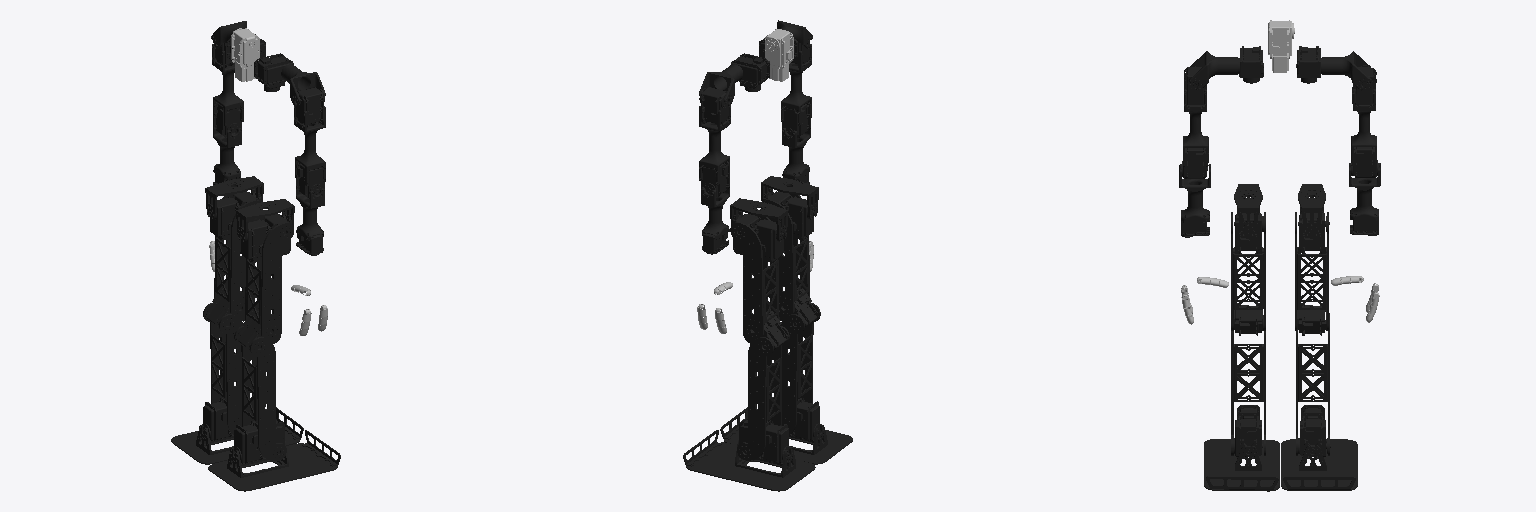
--- What the picture shows (computed from the rendered views, not written in the file) ---
3 views of the same robot in one strip: view 1: azimuth 30°, elevation 25°; view 2: azimuth 150°, elevation 25°; view 3: azimuth 270°, elevation 25° (orthographic).
Model complete with 45 links and 44 joints (9 revolute, 35 fixed), rooted at torso:11, posed every joint at zero.
Visible links, largest first — view 1: right_thigh:11, right_shank:11, right_foot:11, left_shank:11, left_thigh:11, right_upper_arm:11, left_upper_arm:11, left_foot:11, right_lower_arm:11, neck:11, right_hip_low:11, right_ankle:11 (+7 smaller); view 2: left_thigh:11, left_shank:11, left_foot:11, right_shank:11, right_thigh:11, left_upper_arm:11, right_upper_arm:11, right_foot:11, left_lower_arm:11, neck:11, left_hip_low:11, left_ankle:11 (+7 smaller); view 3: left_foot:11, right_foot:11, right_thigh:11, left_thigh:11, left_upper_arm:11, right_upper_arm:11, right_shank:11, left_shank:11, right_lower_arm:11, left_lower_arm:11, neck:11, left_ankle:11 (+9 smaller).
Boxes of the visible links, x1,y1,x2,y2 form: right_thigh:11: [236, 217, 293, 349]; right_shank:11: [234, 326, 286, 460]; right_foot:11: [208, 430, 340, 491]; left_shank:11: [203, 303, 243, 434]; left_thigh:11: [205, 194, 260, 326]; right_upper_arm:11: [294, 87, 325, 198]; left_upper_arm:11: [212, 40, 243, 137]; left_foot:11: [171, 407, 303, 464]; right_lower_arm:11: [296, 187, 324, 255]; neck:11: [231, 28, 259, 81]; right_hip_low:11: [240, 214, 290, 261]; right_ankle:11: [234, 419, 284, 463]; left_thigh:11: [730, 216, 787, 349]; left_shank:11: [737, 326, 789, 460]; left_foot:11: [683, 430, 815, 491]; right_shank:11: [780, 303, 820, 434]; right_thigh:11: [764, 191, 818, 326]; left_upper_arm:11: [699, 87, 730, 196]; right_upper_arm:11: [781, 41, 811, 137]; right_foot:11: [720, 407, 852, 464]; left_lower_arm:11: [701, 187, 729, 254]; neck:11: [765, 29, 793, 81]; left_hip_low:11: [733, 214, 783, 261]; left_ankle:11: [739, 419, 789, 462]; left_foot:11: [1281, 439, 1357, 490]; right_foot:11: [1204, 439, 1279, 491]; right_thigh:11: [1231, 212, 1265, 335]; left_thigh:11: [1295, 212, 1328, 335]; left_upper_arm:11: [1351, 65, 1378, 177]; right_upper_arm:11: [1181, 67, 1208, 178]; right_shank:11: [1231, 331, 1265, 455]; left_shank:11: [1296, 313, 1329, 455]; right_lower_arm:11: [1179, 164, 1210, 237]; left_lower_arm:11: [1349, 163, 1380, 235]; neck:11: [1268, 20, 1294, 72]; left_ankle:11: [1298, 405, 1330, 456].
Bounding box of the posed robot: 0.2082 × 0.3479 × 0.836 m (x, y, z).
39 mesh visuals loaded from 29 distinct referenced files (23 binary STL); not drawn: 6 (reference not matched to a file when rendering).

The robot description file, URDF, robot "complete":
<?xml version="1.0" ?>
<robot name="complete">
	<link name="torso:11">
		<visual>
			<geometry>
				<mesh filename="meshes/torso_iam_fb80b350.STL" scale="0.001 0.001 0.001"/>
			</geometry>
			<origin rpy="0 0 0" xyz="-0.026368 -0.075212 0.525308"/>
			<material name="torso:11_color">
				<color rgba="0.270588 0.270588 0.270588 1"/>
			</material>
		</visual>
		<collision>
			<geometry>
				<mesh filename="meshes/torso_iam_fb80b350.STL" scale="0.001 0.001 0.001"/>
			</geometry>
			<origin rpy="0 0 0" xyz="-0.026368 -0.075212 0.525308"/>
		</collision>
		<inertial>
			<mass value="0.607828"/>
			<inertia ixx="0.006338" ixy="0.000004" ixz="0.000248" iyy="0.005208" iyz="0.000001" izz="0.002162"/>
			<origin rpy="0 0 0" xyz="0.01632 -0.000121 0.649656"/>
		</inertial>
	</link>
	<link name="right_shoulder:11">
		<visual>
			<geometry>
				<mesh filename="meshes/right_shoulder_up_iam_34db21c8.STL" scale="0.001 0.001 0.001"/>
			</geometry>
			<origin rpy="0 0 0" xyz="-0.062271 0.032843 -0.74045"/>
			<material name="right_shoulder:11_color">
				<color rgba="0.176471 0.176471 0.176471 1"/>
			</material>
		</visual>
		<collision>
			<geometry>
				<mesh filename="meshes/right_shoulder_up_iam_34db21c8.STL" scale="0.001 0.001 0.001"/>
			</geometry>
			<origin rpy="0 0 0" xyz="-0.062271 0.032843 -0.74045"/>
		</collision>
		<inertial>
			<mass value="0.084038"/>
			<inertia ixx="0.000026" ixy="-0.000001" ixz="-0.000002" iyy="0.000034" iyz="-0" izz="0.000033"/>
			<origin rpy="0 0 0" xyz="0.005637 0.000876 0.033153"/>
		</inertial>
	</link>
	<joint name="r_shoulder_z_rjoint" type="revolute">
		<parent link="torso:11"/>
		<child link="right_shoulder:11"/>
		<origin rpy="0 0 -0.20444" xyz="0.026783 -0.049912 0.748809"/>
		<axis xyz="0 0 1"/>
		<limit effort="30" lower="-1.745" upper="2.182" velocity="1"/>
	</joint>
	<link name="right_collarbone:11">
		<visual>
			<geometry>
				<mesh filename="meshes/right_upper_arm_iam_e3e9c979.STL" scale="0.001 0.001 0.001"/>
			</geometry>
			<origin rpy="0 0 0" xyz="-0.0285 -0.054827 -0.000102"/>
			<material name="right_collarbone:11_color">
				<color rgba="0.176471 0.176471 0.176471 1"/>
			</material>
		</visual>
		<collision>
			<geometry>
				<mesh filename="meshes/right_upper_arm_iam_e3e9c979.STL" scale="0.001 0.001 0.001"/>
			</geometry>
			<origin rpy="0 0 0" xyz="-0.0285 -0.054827 -0.000102"/>
		</collision>
		<inertial>
			<mass value="0.024811"/>
			<inertia ixx="0.000014" ixy="-0" ixz="0" iyy="0.000011" iyz="-0.000001" izz="0.000019"/>
			<origin rpy="0 0 0" xyz="-0 -0.041345 -0.002364"/>
		</inertial>
	</link>
	<joint name="r_shoulder_y_rjoint" type="revolute">
		<parent link="right_shoulder:11"/>
		<child link="right_collarbone:11"/>
		<origin rpy="0 0 0.20444" xyz="0.026211 -0.018056 0.037"/>
		<axis xyz="0 -1 0"/>
		<limit effort="30" lower="-3.142" upper="3.124" velocity="1"/>
	</joint>
	<link name="right_upper_arm:11">
		<visual>
			<geometry>
				<mesh filename="meshes/right_lower_arm1_iam_65a34910.STL" scale="0.001 0.001 0.001"/>
			</geometry>
			<origin rpy="0 0 0" xyz="-0.044001 -0.021 -0.139458"/>
			<material name="right_upper_arm:11_color">
				<color rgba="0.176471 0.176471 0.176471 1"/>
			</material>
		</visual>
		<collision>
			<geometry>
				<mesh filename="meshes/right_lower_arm1_iam_65a34910.STL" scale="0.001 0.001 0.001"/>
			</geometry>
			<origin rpy="0 0 0" xyz="-0.044001 -0.021 -0.139458"/>
		</collision>
		<inertial>
			<mass value="0.189729"/>
			<inertia ixx="0.000851" ixy="0" ixz="0" iyy="0.000851" iyz="-0.000005" izz="0.000048"/>
			<origin rpy="0 0 0" xyz="-0.02306 -0.000321 -0.0866"/>
		</inertial>
	</link>
	<joint name="r_arm_x_rjoint" type="revolute">
		<parent link="right_collarbone:11"/>
		<child link="right_upper_arm:11"/>
		<origin rpy="0 0 0" xyz="0.0245 -0.073664 -0.022853"/>
		<axis xyz="1 0 0"/>
		<limit effort="30" lower="-3.002" upper="1.8675" velocity="1"/>
	</joint>
	<link name="right_lower_arm:11">
		<visual>
			<geometry>
				<mesh filename="meshes/right_wrist_iam_771ea33e.STL" scale="0.001 0.001 0.001"/>
			</geometry>
			<origin rpy="0 0 0" xyz="-0.0168 -0.0018 -0.123873"/>
			<material name="right_lower_arm:11_color">
				<color rgba="0.176471 0.176471 0.176471 1"/>
			</material>
		</visual>
		<collision>
			<geometry>
				<mesh filename="meshes/right_wrist_iam_771ea33e.STL" scale="0.001 0.001 0.001"/>
			</geometry>
			<origin rpy="0 0 0" xyz="-0.0168 -0.0018 -0.123873"/>
		</collision>
		<inertial>
			<mass value="0.076793"/>
			<inertia ixx="0.000104" ixy="-0" ixz="-0" iyy="0.000095" iyz="-0.000002" izz="0.000021"/>
			<origin rpy="0 0 0" xyz="0 0.022485 -0.081055"/>
		</inertial>
	</link>
	<joint name="r_elbow_y_rjoint" type="revolute">
		<parent link="right_upper_arm:11"/>
		<child link="right_lower_arm:11"/>
		<origin rpy="0 0 0" xyz="-0.023001 -0.024001 -0.1732"/>
		<axis xyz="0 1 0"/>
		<limit effort="30" lower="-1.745" upper="1.745" velocity="1"/>
	</joint>
	<link name="right_wrist:11">
		<visual>
			<geometry>
				<mesh filename="meshes/right_wrist_iam_81504746.STL" scale="0.001 0.001 0.001"/>
			</geometry>
			<origin rpy="0 0 0" xyz="-0.000319 0.006617 -0.070181"/>
			<material name="right_wrist:11_color">
				<color rgba="0.74902 0.74902 0.74902 1"/>
			</material>
		</visual>
		<collision>
			<geometry>
				<mesh filename="meshes/right_wrist_iam_81504746.STL" scale="0.001 0.001 0.001"/>
			</geometry>
			<origin rpy="0 0 0" xyz="-0.000319 0.006617 -0.070181"/>
		</collision>
		<inertial>
			<mass value="0.028397"/>
			<inertia ixx="0.000043" ixy="-0" ixz="0.000004" iyy="0.000058" iyz="-0.000007" izz="0.000029"/>
			<origin rpy="0 0 0" xyz="0.000031 -0.011056 -0.0675"/>
		</inertial>
	</link>
	<joint name="r_wrist_z_rjoint" type="revolute">
		<parent link="right_lower_arm:11"/>
		<child link="right_wrist:11"/>
		<origin rpy="0 0 0.028946" xyz="0 0.0102 -0.12605"/>
		<axis xyz="0 0 1"/>
		<limit effort="30" lower="-1.571" upper="1.571" velocity="1"/>
	</joint>
	<link name="gripper"> <!--gripper-->
		<visual>
			<geometry>
				<mesh filename="meshes/right_palm_iam_583b22df.STL" scale="0.001 0.001 0.001"/>
			</geometry>
			<origin rpy="0 0 0" xyz="-0.022933 0.001906 -0.017233"/>
			<material name="gripper_color">
				<color rgba="0.74902 0.74902 0.74902 1"/>
			</material>
		</visual>
		<collision>
			<geometry>
				<mesh filename="meshes/right_palm_iam_583b22df.STL" scale="0.001 0.001 0.001"/>
			</geometry>
			<origin rpy="0 0 0" xyz="-0.022933 0.001906 -0.017233"/>
		</collision>
		<inertial>
			<mass value="0.005332"/>
			<inertia ixx="0.000015" ixy="0.000001" ixz="-0.000004" iyy="0.000017" iyz="0.000004" izz="0.000006"/>
			<origin rpy="0 0 0" xyz="-0.029511 0.002253 -0.023968"/>
		</inertial>
	</link>
	<joint name="r_wrist_x_gjoint" type="revolute">
		<parent link="right_wrist:11"/>
		<child link="gripper"/>
		<origin rpy="-0.433097 0 0" xyz="0.023416 0.006052 -0.070337"/>
		<axis xyz="1 0 0"/>
		<limit effort="30" lower="0" upper="0.872665" velocity="1"/>
	</joint>
	<link name="finger_segment:23">
		<visual>
			<geometry>
				<mesh filename="meshes/finger_segment_ipt_50d2a7f4.STL" scale="0.001 0.001 0.001"/>
			</geometry>
			<origin rpy="0 0 0" xyz="-0.006681 -0.015507 -0.007416"/>
			<material name="finger_segment:23_color">
				<color rgba="0.74902 0.74902 0.74902 1"/>
			</material>
		</visual>
		<collision>
			<geometry>
				<mesh filename="meshes/finger_segment_ipt_50d2a7f4.STL" scale="0.001 0.001 0.001"/>
			</geometry>
			<origin rpy="0 0 0" xyz="-0.006681 -0.015507 -0.007416"/>
		</collision>
		<inertial>
			<mass value="0.000009"/>
			<inertia ixx="0" ixy="0" ixz="-0" iyy="0" iyz="0" izz="0"/>
			<origin rpy="0 0 0" xyz="0.004909 0.000556 -0.005751"/>
		</inertial>
	</link>
	<joint name="r_indexfingers_x_rjoint" type="revolute">
		<parent link="gripper"/>
		<child link="finger_segment:23"/>
		<origin rpy="-0.578103 0.062904 -3.141593" xyz="-0.001139 0.006226 -0.040004"/>
		<axis xyz="0.998022 0.00962907 0.0621208"/>
		<limit effort="30" lower="-1.309" upper="0" velocity="1"/>
	</joint>
	<link name="finger_segment:13">
		<visual>
			<geometry>
				<mesh filename="meshes/finger_segment_ipt_50d2a7f4.STL" scale="0.001 0.001 0.001"/>
			</geometry>
			<origin rpy="0 0 0" xyz="-0.006181 -0.015507 -0.007417"/>
			<material name="finger_segment:13_color">
				<color rgba="0.74902 0.74902 0.74902 1"/>
			</material>
		</visual>
		<collision>
			<geometry>
				<mesh filename="meshes/finger_segment_ipt_50d2a7f4.STL" scale="0.001 0.001 0.001"/>
			</geometry>
			<origin rpy="0 0 0" xyz="-0.006181 -0.015507 -0.007417"/>
		</collision>
		<inertial>
			<mass value="0.000009"/>
			<inertia ixx="0" ixy="0" ixz="-0" iyy="0" iyz="0" izz="0"/>
			<origin rpy="0 0 0" xyz="0.005409 0.000556 -0.005751"/>
		</inertial>
	</link>
	<joint name="r_indexfinger_1st_x" type="fixed">
		<parent link="finger_segment:23"/>
		<child link="finger_segment:13"/>
		<origin rpy="-0.095246 0 0" xyz="-0.0005 0 -0.015999"/>
		<axis xyz="0.998022 0.00962907 0.0621208"/>
		<limit effort="30" lower="-1.309" upper="0" velocity="1"/>
	</joint>
	<link name="fingertip:13">
		<visual>
			<geometry>
				<mesh filename="meshes/fingertip_ipt_8417b8a9.STL" scale="0.001 0.001 0.001"/>
			</geometry>
			<origin rpy="0 0 0" xyz="0.005514 0.000374 -0.010171"/>
			<material name="fingertip:13_color">
				<color rgba="0.74902 0.74902 0.74902 1"/>
			</material>
		</visual>
		<collision>
			<geometry>
				<mesh filename="meshes/fingertip_ipt_8417b8a9.STL" scale="0.001 0.001 0.001"/>
			</geometry>
			<origin rpy="0 0 0" xyz="0.005514 0.000374 -0.010171"/>
		</collision>
		<inertial>
			<mass value="0.000008"/>
			<inertia ixx="0" ixy="-0" ixz="-0" iyy="0" iyz="-0" izz="0"/>
			<origin rpy="0 0 0" xyz="0.005013 0.000408 -0.010216"/>
		</inertial>
	</link>
	<joint name="endeffector_joint" type="revolute"><!--r_indexfinger_2nd_x-->
		<parent link="finger_segment:13"/>
		<child link="fingertip:13"/>
		<origin rpy="-0.109614 0 0" xyz="0 -0 -0.016"/>
		<axis xyz="0.998022 0.00962907 0.0621208"/>
		<limit effort="30" lower="-1.309" upper="0" velocity="1"/>
	</joint>
	<link name="endeffector"><!--finger_segment:22-->
		<visual>
			<geometry>
				<mesh filename="meshes/finger_segment_ipt_50d2a7f4.STL" scale="0.001 0.001 0.001"/>
			</geometry>
			<origin rpy="0 0 0" xyz="-0.006681 -0.015507 -0.007416"/>
			<material name="finger_segment:22_color">
				<color rgba="0.74902 0.74902 0.74902 1"/>
			</material>
		</visual>
		<collision>
			<geometry>
				<mesh filename="meshes/finger_segment_ipt_50d2a7f4.STL" scale="0.001 0.001 0.001"/>
			</geometry>
			<origin rpy="0 0 0" xyz="-0.006681 -0.015507 -0.007416"/>
		</collision>
		<inertial>
			<mass value="0.000009"/>
			<inertia ixx="0" ixy="0" ixz="-0" iyy="0" iyz="0" izz="0"/>
			<origin rpy="0 0 0" xyz="0.004909 0.000556 -0.005751"/>
		</inertial>
	</link>
	<joint name="r_ringfingers_x" type="fixed">
		<parent link="gripper"/>
		<child link="endeffector"/>
		<origin rpy="-0.569851 -0.062904 -3.141593" xyz="-0.035879 0.006226 -0.040569"/>
		<axis xyz="0.998022 -0.00962907 -0.0621208"/>
		<limit effort="30" lower="-1.309" upper="0" velocity="1"/>
	</joint>
	<link name="finger_segment:12">
		<visual>
			<geometry>
				<mesh filename="meshes/finger_segment_ipt_50d2a7f4.STL" scale="0.001 0.001 0.001"/>
			</geometry>
			<origin rpy="0 0 0" xyz="-0.006181 -0.015507 -0.007417"/>
			<material name="finger_segment:12_color">
				<color rgba="0.74902 0.74902 0.74902 1"/>
			</material>
		</visual>
		<collision>
			<geometry>
				<mesh filename="meshes/finger_segment_ipt_50d2a7f4.STL" scale="0.001 0.001 0.001"/>
			</geometry>
			<origin rpy="0 0 0" xyz="-0.006181 -0.015507 -0.007417"/>
		</collision>
		<inertial>
			<mass value="0.000009"/>
			<inertia ixx="0" ixy="0" ixz="-0" iyy="0" iyz="0" izz="0"/>
			<origin rpy="0 0 0" xyz="0.005409 0.000556 -0.005752"/>
		</inertial>
	</link>
	<joint name="r_ringfinger_1st_x" type="fixed">
		<parent link="endeffector"/>
		<child link="finger_segment:12"/>
		<origin rpy="-0.095245 0 0" xyz="-0.0005 0 -0.016"/>
		<axis xyz="0.998022 -0.00962907 -0.0621208"/>
		<limit effort="30" lower="-1.309" upper="0" velocity="1"/>
	</joint>
	<link name="fingertip:12">
		<visual>
			<geometry>
				<mesh filename="meshes/fingertip_ipt_8417b8a9.STL" scale="0.001 0.001 0.001"/>
			</geometry>
			<origin rpy="0 0 0" xyz="0.005514 0.000373 -0.010171"/>
			<material name="fingertip:12_color">
				<color rgba="0.74902 0.74902 0.74902 1"/>
			</material>
		</visual>
		<collision>
			<geometry>
				<mesh filename="meshes/fingertip_ipt_8417b8a9.STL" scale="0.001 0.001 0.001"/>
			</geometry>
			<origin rpy="0 0 0" xyz="0.005514 0.000373 -0.010171"/>
		</collision>
		<inertial>
			<mass value="0.000008"/>
			<inertia ixx="0" ixy="-0" ixz="-0" iyy="0" iyz="-0" izz="0"/>
			<origin rpy="0 0 0" xyz="0.005013 0.000407 -0.010215"/>
		</inertial>
	</link>
	<joint name="r_ringfinger_2nd_x" type="fixed">
		<parent link="finger_segment:12"/>
		<child link="fingertip:12"/>
		<origin rpy="-0.109614 0 0" xyz="0 -0 -0.016"/>
		<axis xyz="0.998022 -0.00962907 -0.0621208"/>
		<limit effort="30" lower="-1.309" upper="0" velocity="1"/>
	</joint>
	<link name="finger_segment:21">
		<visual>
			<geometry>
				<mesh filename="meshes/finger_segment_ipt_50d2a7f4.STL" scale="0.001 0.001 0.001"/>
			</geometry>
			<origin rpy="0 0 0" xyz="-0.006681 -0.015507 -0.007417"/>
			<material name="finger_segment:21_color">
				<color rgba="0.74902 0.74902 0.74902 1"/>
			</material>
		</visual>
		<collision>
			<geometry>
				<mesh filename="meshes/finger_segment_ipt_50d2a7f4.STL" scale="0.001 0.001 0.001"/>
			</geometry>
			<origin rpy="0 0 0" xyz="-0.006681 -0.015507 -0.007417"/>
		</collision>
		<inertial>
			<mass value="0.000009"/>
			<inertia ixx="0" ixy="0" ixz="-0" iyy="0" iyz="0" izz="0"/>
			<origin rpy="0 0 0" xyz="0.004909 0.000556 -0.005752"/>
		</inertial>
	</link>
	<joint name="r_thumb_x" type="fixed">
		<parent link="gripper"/>
		<child link="finger_segment:21"/>
		<origin rpy="1.915504 0 0" xyz="-0.0275 0.0199 -0.00842"/>
		<axis xyz="1 0 0"/>
		<limit effort="30" lower="-1.309" upper="0" velocity="1"/>
	</joint>
	<link name="finger_segment:11">
		<visual>
			<geometry>
				<mesh filename="meshes/finger_segment_ipt_50d2a7f4.STL" scale="0.001 0.001 0.001"/>
			</geometry>
			<origin rpy="0 0 0" xyz="-0.006181 -0.015507 -0.007416"/>
			<material name="finger_segment:11_color">
				<color rgba="0.74902 0.74902 0.74902 1"/>
			</material>
		</visual>
		<collision>
			<geometry>
				<mesh filename="meshes/finger_segment_ipt_50d2a7f4.STL" scale="0.001 0.001 0.001"/>
			</geometry>
			<origin rpy="0 0 0" xyz="-0.006181 -0.015507 -0.007416"/>
		</collision>
		<inertial>
			<mass value="0.000009"/>
			<inertia ixx="0" ixy="0" ixz="-0" iyy="0" iyz="0" izz="0"/>
			<origin rpy="0 0 0" xyz="0.005409 0.000557 -0.005751"/>
		</inertial>
	</link>
	<joint name="r_thumb_1st_x" type="fixed">
		<parent link="finger_segment:21"/>
		<child link="finger_segment:11"/>
		<origin rpy="-0.095246 0 0" xyz="-0.0005 -0.000001 -0.016001"/>
		<axis xyz="1 0 0"/>
		<limit effort="30" lower="-1.309" upper="0" velocity="1"/>
	</joint>
	<link name="fingertip:11">
		<visual>
			<geometry>
				<mesh filename="meshes/fingertip_ipt_8417b8a9.STL" scale="0.001 0.001 0.001"/>
			</geometry>
			<origin rpy="0 0 0" xyz="0.005514 0.000374 -0.010171"/>
			<material name="fingertip:11_color">
				<color rgba="0.74902 0.74902 0.74902 1"/>
			</material>
		</visual>
		<collision>
			<geometry>
				<mesh filename="meshes/fingertip_ipt_8417b8a9.STL" scale="0.001 0.001 0.001"/>
			</geometry>
			<origin rpy="0 0 0" xyz="0.005514 0.000374 -0.010171"/>
		</collision>
		<inertial>
			<mass value="0.000008"/>
			<inertia ixx="0" ixy="-0" ixz="-0" iyy="0" iyz="-0" izz="0"/>
			<origin rpy="0 0 0" xyz="0.005013 0.000408 -0.010216"/>
		</inertial>
	</link>
	<joint name="r_thumb_2nd_x" type="fixed">
		<parent link="finger_segment:11"/>
		<child link="fingertip:11"/>
		<origin rpy="-0.109614 0 0" xyz="0 0.000001 -0.015999"/>
		<axis xyz="1 0 0"/>
		<limit effort="30" lower="-1.309" upper="0" velocity="1"/>
	</joint>
	<link name="right_hip_up:11">
		<visual>
			<geometry>
				<mesh filename="meshes/right_hip_up_iam_f46f7684.STL" scale="0.001 0.001 0.001"/>
			</geometry>
			<origin rpy="0 0 0" xyz="-0.05 -0.018 -0.002769"/>
			<material name="right_hip_up:11_color">
				<color rgba="0.176471 0.176471 0.176471 1"/>
			</material>
		</visual>
		<collision>
			<geometry>
				<mesh filename="meshes/right_hip_up_iam_f46f7684.STL" scale="0.001 0.001 0.001"/>
			</geometry>
			<origin rpy="0 0 0" xyz="-0.05 -0.018 -0.002769"/>
		</collision>
		<inertial>
			<mass value="0.026572"/>
			<inertia ixx="0.00001" ixy="-0" ixz="0.000004" iyy="0.000043" iyz="0" izz="0.00004"/>
			<origin rpy="0 0 0" xyz="0.005067 0.00002 -0.012737"/>
		</inertial>
	</link>
	<joint name="r_hip_z" type="revolute">
		<parent link="torso:11"/>
		<child link="right_hip_up:11"/>
		<origin rpy="0 0 0" xyz="0.010783 -0.055212 0.519208"/>
		<axis xyz="0 0 1"/>
		<limit effort="30" lower="-0.698132" upper="0.698132" velocity="1"/>
	</joint>
	<link name="right_hip_low:11">
		<visual>
			<geometry>
				<mesh filename="meshes/right_hip_up2_iam_f4f7d16a.STL" scale="0.001 0.001 0.001"/>
			</geometry>
			<origin rpy="0 0 0" xyz="0.0031 -0.023 -0.025201"/>
			<material name="right_hip_low:11_color">
				<color rgba="0.176471 0.176471 0.176471 1"/>
			</material>
		</visual>
		<collision>
			<geometry>
				<mesh filename="meshes/right_hip_up2_iam_f4f7d16a.STL" scale="0.001 0.001 0.001"/>
			</geometry>
			<origin rpy="0 0 0" xyz="0.0031 -0.023 -0.025201"/>
		</collision>
		<inertial>
			<mass value="0.178341"/>
			<inertia ixx="0.000077" ixy="-0.000001" ixz="0.000001" iyy="0.000157" iyz="-0.000001" izz="0.00013"/>
			<origin rpy="0 0 0" xyz="0.04747 0.000227 -0.015465"/>
		</inertial>
	</link>
	<joint name="r_hip_x" type="fixed">
		<parent link="right_hip_up:11"/>
		<child link="right_hip_low:11"/>
		<origin rpy="0.000512 0 0" xyz="-0.046 0 -0.0414"/>
		<axis xyz="1 0 0"/>
		<limit effort="30" lower="-0.418879" upper="1.22173" velocity="1"/>
	</joint>
	<link name="right_thigh:11">
		<visual>
			<geometry>
				<mesh filename="meshes/Thigh_right_complete_iam_6502f197.STL" scale="0.001 0.001 0.001"/>
			</geometry>
			<origin rpy="0 0 0" xyz="-0.04583 -0.056 -0.070383"/>
			<material name="right_thigh:11_color">
				<color rgba="0.176471 0.176471 0.176471 1"/>
			</material>
		</visual>
		<collision>
			<geometry>
				<mesh filename="meshes/Thigh_right_complete_iam_6502f197.STL" scale="0.001 0.001 0.001"/>
			</geometry>
			<origin rpy="0 0 0" xyz="-0.04583 -0.056 -0.070383"/>
		</collision>
		<inertial>
			<mass value="0.177251"/>
			<inertia ixx="0.000918" ixy="0.000001" ixz="-0.000093" iyy="0.000883" iyz="0.000003" izz="0.000125"/>
			<origin rpy="0 0 0" xyz="-0.029925 -0.02577 -0.151364"/>
		</inertial>
	</link>
	<joint name="r_hip_y" type="fixed">
		<parent link="right_hip_low:11"/>
		<child link="right_thigh:11"/>
		<origin rpy="0 0.017985 0" xyz="0.0692 0.0261 -0"/>
		<axis xyz="0 1 0"/>
		<limit effort="30" lower="-1.570796" upper="0.5585" velocity="1"/>
	</joint>
	<link name="right_shank:11">
		<visual>
			<geometry>
				<mesh filename="meshes/right_shank_iam_7a73fe91.STL" scale="0.001 0.001 0.001"/>
			</geometry>
			<origin rpy="0 0 0" xyz="-0.004901 -0.056 -0.081799"/>
			<material name="right_shank:11_color">
				<color rgba="0.176471 0.176471 0.176471 1"/>
			</material>
		</visual>
		<collision>
			<geometry>
				<mesh filename="meshes/right_shank_iam_7a73fe91.STL" scale="0.001 0.001 0.001"/>
			</geometry>
			<origin rpy="0 0 0" xyz="-0.004901 -0.056 -0.081799"/>
		</collision>
		<inertial>
			<mass value="0.084704"/>
			<inertia ixx="0.000448" ixy="0" ixz="0.000025" iyy="0.000404" iyz="0" izz="0.000078"/>
			<origin rpy="0 0 0" xyz="0.015999 -0.026 -0.104866"/>
		</inertial>
	</link>
	<joint name="r_knee_y" type="fixed">
		<parent link="right_thigh:11"/>
		<child link="right_shank:11"/>
		<origin rpy="0 -0.017619 0" xyz="-0.048258 0.0001 -0.214642"/>
		<axis xyz="0 1 0"/>
		<limit effort="30" lower="-1.53589" upper="1.29154" velocity="1"/>
	</joint>
	<link name="right_ankle:11">
		<visual>
			<geometry>
				<mesh filename="meshes/right_ankle_iam_f4f7d16a.STL" scale="0.001 0.001 0.001"/>
			</geometry>
			<origin rpy="0 0 0" xyz="-0.0661 0.0031 -0.011201"/>
			<material name="right_ankle:11_color">
				<color rgba="0.176471 0.176471 0.176471 1"/>
			</material>
		</visual>
		<collision>
			<geometry>
				<mesh filename="meshes/right_ankle_iam_f4f7d16a.STL" scale="0.001 0.001 0.001"/>
			</geometry>
			<origin rpy="0 0 0" xyz="-0.0661 0.0031 -0.011201"/>
		</collision>
		<inertial>
			<mass value="0.178341"/>
			<inertia ixx="0.000077" ixy="0.000001" ixz="-0.000001" iyy="0.000157" iyz="-0.000001" izz="0.00013"/>
			<origin rpy="0 0 0" xyz="-0.02173 0.025873 0.015465"/>
		</inertial>
	</link>
	<joint name="r_ankle_y" type="fixed">
		<parent link="right_shank:11"/>
		<child link="right_ankle:11"/>
		<origin rpy="0 -0.000292 0" xyz="0.03924 -0.052 -0.216472"/>
		<axis xyz="0 1 0"/>
		<limit effort="30" lower="-0.785398" upper="0.785398" velocity="1"/>
	</joint>
	<link name="right_foot:11">
		<visual>
			<geometry>
				<mesh filename="meshes/right_foot_iam_3ff7356a.STL" scale="0.001 0.001 0.001"/>
			</geometry>
			<origin rpy="0 0 0" xyz="-0.004 -0.024 -0.009365"/>
			<material name="right_foot:11_color">
				<color rgba="0.176471 0.176471 0.176471 1"/>
			</material>
		</visual>
		<collision>
			<geometry>
				<mesh filename="meshes/right_foot_iam_3ff7356a.STL" scale="0.001 0.001 0.001"/>
			</geometry>
			<origin rpy="0 0 0" xyz="-0.004 -0.024 -0.009365"/>
		</collision>
		<inertial>
			<mass value="0.072801"/>
			<inertia ixx="0.000097" ixy="0.000003" ixz="-0.000001" iyy="0.000283" iyz="-0.000003" izz="0.000362"/>
			<origin rpy="0 0 0" xyz="0.074125 -0.00893 -0.031819"/>
		</inertial>
	</link>
	<joint name="r_ankle_x" type="fixed">
		<parent link="right_ankle:11"/>
		<child link="right_foot:11"/>
		<origin rpy="-0.014983 0 0" xyz="-0.0709 0.0261 0"/>
		<axis xyz="1 0 0"/>
		<limit effort="30" lower="-0.785398" upper="0.785398" velocity="1"/>
	</joint>
	<link name="left_hip_up:11">
		<visual>
			<geometry>
				<mesh filename="meshes/right_hip_up_MIR_iam_386ac7b2.STL" scale="0.001 0.001 0.001"/>
			</geometry>
			<origin rpy="0 0 0" xyz="-0.05 -0.018 -0.0007"/>
			<material name="left_hip_up:11_color">
				<color rgba="0.176471 0.176471 0.176471 1"/>
			</material>
		</visual>
		<collision>
			<geometry>
				<mesh filename="meshes/right_hip_up_MIR_iam_386ac7b2.STL" scale="0.001 0.001 0.001"/>
			</geometry>
			<origin rpy="0 0 0" xyz="-0.05 -0.018 -0.0007"/>
		</collision>
		<inertial>
			<mass value="0.072012"/>
			<inertia ixx="0.000028" ixy="0" ixz="0.00001" iyy="0.000117" iyz="-0" izz="0.000108"/>
			<origin rpy="0 0 0" xyz="0.005067 -0.000001 -0.012736"/>
		</inertial>
	</link>
	<joint name="l_hip_z" type="fixed">
		<parent link="torso:11"/>
		<child link="left_hip_up:11"/>
		<origin rpy="0 0 0" xyz="0.010783 0.054788 0.519208"/>
		<axis xyz="0 0 1"/>
		<limit effort="30" lower="-0.698132" upper="0.698132" velocity="1"/>
	</joint>
	<link name="left_hip_low:11">
		<visual>
			<geometry>
				<mesh filename="meshes/right_hip_up2_MIR_iam_b8a74a0a.STL" scale="0.001 0.001 0.001"/>
			</geometry>
			<origin rpy="0 0 0" xyz="0.0031 -0.023 -0.025201"/>
			<material name="left_hip_low:11_color">
				<color rgba="0.176471 0.176471 0.176471 1"/>
			</material>
		</visual>
		<collision>
			<geometry>
				<mesh filename="meshes/right_hip_up2_MIR_iam_b8a74a0a.STL" scale="0.001 0.001 0.001"/>
			</geometry>
			<origin rpy="0 0 0" xyz="0.0031 -0.023 -0.025201"/>
		</collision>
		<inertial>
			<mass value="0.17834"/>
			<inertia ixx="0.000077" ixy="-0.000001" ixz="0.000001" iyy="0.000157" iyz="-0.000001" izz="0.00013"/>
			<origin rpy="0 0 0" xyz="0.04747 0.00023 -0.015465"/>
		</inertial>
	</link>
	<joint name="l_hip_x" type="fixed">
		<parent link="left_hip_up:11"/>
		<child link="left_hip_low:11"/>
		<origin rpy="0 0 0" xyz="-0.046 0 -0.0414"/>
		<axis xyz="1 0 0"/>
		<limit effort="30" lower="-1.22173" upper="0.418879" velocity="1"/>
	</joint>
	<link name="left_thigh:11">
		<visual>
			<geometry>
				<mesh filename="meshes/Thigh_left_complete_iam_5a6ba909.STL" scale="0.001 0.001 0.001"/>
			</geometry>
			<origin rpy="0 0 0" xyz="-0.04583 -0.056 -0.100647"/>
			<material name="left_thigh:11_color">
				<color rgba="0.176471 0.176471 0.176471 1"/>
			</material>
		</visual>
		<collision>
			<geometry>
				<mesh filename="meshes/Thigh_left_complete_iam_5a6ba909.STL" scale="0.001 0.001 0.001"/>
			</geometry>
			<origin rpy="0 0 0" xyz="-0.04583 -0.056 -0.100647"/>
		</collision>
		<inertial>
			<mass value="0.177251"/>
			<inertia ixx="0.000918" ixy="0.000001" ixz="-0.000093" iyy="0.000883" iyz="0.000003" izz="0.000125"/>
			<origin rpy="0 0 0" xyz="-0.029925 -0.02577 -0.151365"/>
		</inertial>
	</link>
	<joint name="l_hip_y" type="fixed">
		<parent link="left_hip_low:11"/>
		<child link="left_thigh:11"/>
		<origin rpy="0 0.018214 0" xyz="0.0692 0.0261 0"/>
		<axis xyz="0 1 0"/>
		<limit effort="30" lower="-1.57" upper="0.698132" velocity="1"/>
	</joint>
	<link name="left_shank:11">
		<visual>
			<geometry>
				<mesh filename="meshes/right_shank_MIR_iam_a2a9b5d0.STL" scale="0.001 0.001 0.001"/>
			</geometry>
			<origin rpy="0 0 0" xyz="-0.004901 -0.056 -0.03453"/>
			<material name="left_shank:11_color">
				<color rgba="0.176471 0.176471 0.176471 1"/>
			</material>
		</visual>
		<collision>
			<geometry>
				<mesh filename="meshes/right_shank_MIR_iam_a2a9b5d0.STL" scale="0.001 0.001 0.001"/>
			</geometry>
			<origin rpy="0 0 0" xyz="-0.004901 -0.056 -0.03453"/>
		</collision>
		<inertial>
			<mass value="0.084704"/>
			<inertia ixx="0.000448" ixy="0" ixz="0.000025" iyy="0.000404" iyz="0" izz="0.000078"/>
			<origin rpy="0 0 0" xyz="0.015999 -0.026 -0.104866"/>
		</inertial>
	</link>
	<joint name="l_knee_y" type="fixed">
		<parent link="left_thigh:11"/>
		<child link="left_shank:11"/>
		<origin rpy="0 -0.019054 0" xyz="-0.048258 0.0018 -0.214642"/>
		<axis xyz="0 1 0"/>
		<limit effort="30" lower="-1.53589" upper="1.29154" velocity="1"/>
	</joint>
	<link name="left_ankle:11">
		<visual>
			<geometry>
				<mesh filename="meshes/right_ankle_MIR_iam_c5a384f4.STL" scale="0.001 0.001 0.001"/>
			</geometry>
			<origin rpy="0 0 0" xyz="-0.0661 -0.0491 0.025201"/>
			<material name="left_ankle:11_color">
				<color rgba="0.176471 0.176471 0.176471 1"/>
			</material>
		</visual>
		<collision>
			<geometry>
				<mesh filename="meshes/right_ankle_MIR_iam_c5a384f4.STL" scale="0.001 0.001 0.001"/>
			</geometry>
			<origin rpy="0 0 0" xyz="-0.0661 -0.0491 0.025201"/>
		</collision>
		<inertial>
			<mass value="0.179549"/>
			<inertia ixx="0.000078" ixy="-0" ixz="-0.000001" iyy="0.000158" iyz="0.000001" izz="0.000132"/>
			<origin rpy="0 0 0" xyz="-0.021584 -0.026039 0.015361"/>
		</inertial>
	</link>
	<joint name="l_ankle_y" type="fixed">
		<parent link="left_shank:11"/>
		<child link="left_ankle:11"/>
		<origin rpy="0 0.00084 0" xyz="0.03924 0 -0.216473"/>
		<axis xyz="0 1 0"/>
		<limit effort="30" lower="-0.785398" upper="0.785398" velocity="1"/>
	</joint>
	<link name="left_foot:11">
		<visual>
			<geometry>
				<mesh filename="meshes/left_foot_iam_620666ef.STL" scale="0.001 0.001 0.001"/>
			</geometry>
			<origin rpy="0 0 0" xyz="-0.004 -0.024 -0.033621"/>
			<material name="left_foot:11_color">
				<color rgba="0.176471 0.176471 0.176471 1"/>
			</material>
		</visual>
		<collision>
			<geometry>
				<mesh filename="meshes/left_foot_iam_620666ef.STL" scale="0.001 0.001 0.001"/>
			</geometry>
			<origin rpy="0 0 0" xyz="-0.004 -0.024 -0.033621"/>
		</collision>
		<inertial>
			<mass value="0.072801"/>
			<inertia ixx="0.000097" ixy="-0.000003" ixz="-0.000001" iyy="0.000283" iyz="0.000003" izz="0.000362"/>
			<origin rpy="0 0 0" xyz="0.074087 0.008929 -0.031819"/>
		</inertial>
	</link>
	<joint name="l_ankle_x" type="fixed">
		<parent link="left_ankle:11"/>
		<child link="left_foot:11"/>
		<origin rpy="0 0 0" xyz="-0.0709 -0.0261 0"/>
		<axis xyz="1 0 0"/>
		<limit effort="30" lower="-0.785398" upper="0.785398" velocity="1"/>
	</joint>
	<link name="neck:11">
		<visual>
			<geometry>
				<mesh filename="meshes/neck_iam_61141f4f.STL" scale="0.001 0.001 0.001"/>
			</geometry>
			<origin rpy="0 0 0" xyz="-0.015583 -0.0205 0"/>
			<material name="neck:11_color">
				<color rgba="0.74902 0.74902 0.74902 1"/>
			</material>
		</visual>
		<collision>
			<geometry>
				<mesh filename="meshes/neck_iam_61141f4f.STL" scale="0.001 0.001 0.001"/>
			</geometry>
			<origin rpy="0 0 0" xyz="-0.015583 -0.0205 0"/>
		</collision>
		<inertial>
			<mass value="0.090439"/>
			<inertia ixx="0.00006" ixy="-0" ixz="-0" iyy="0.000056" iyz="-0.000001" izz="0.000019"/>
			<origin rpy="0 0 0" xyz="0 0.000266 0.050352"/>
		</inertial>
	</link>
	<joint name="head_z" type="fixed">
		<parent link="torso:11"/>
		<child link="neck:11"/>
		<origin rpy="0 0 0" xyz="0.001283 -0.000212 0.756309"/>
		<axis xyz="0 0 1"/>
		<limit effort="30" lower="-3.124" upper="3.142" velocity="1"/>
	</joint>
	<link name="head:21">
		<visual>
			<geometry>
				<mesh filename="meshes/head_iam_b9cf2ea.STL" scale="0.001 0.001 0.001"/>
			</geometry>
			<origin rpy="0 0 0" xyz="-0.003998 -0.016462 0.04478"/>
			<material name="head:21_color">
				<color rgba="0.74902 0.74902 0.74902 1"/>
			</material>
		</visual>
		<collision>
			<geometry>
				<mesh filename="meshes/head_iam_b9cf2ea.STL" scale="0.001 0.001 0.001"/>
			</geometry>
			<origin rpy="0 0 0" xyz="-0.003998 -0.016462 0.04478"/>
		</collision>
		<inertial>
			<mass value="0.294137"/>
			<inertia ixx="0.001424" ixy="-0" ixz="0.000083" iyy="0.00159" iyz="-0.000002" izz="0.001485"/>
			<origin rpy="0 0 0" xyz="0.01525 -0.023771 0.09423"/>
		</inertial>
	</link>
	<joint name="head_y" type="fixed">
		<parent link="neck:11"/>
		<child link="head:21"/>
		<origin rpy="0 0 0" xyz="0 0.023001 0.0745"/>
		<axis xyz="0 1 0"/>
		<limit effort="30" lower="-1.553" upper="1.379" velocity="1"/>
	</joint>
	<link name="left_shoulder:11">
		<visual>
			<geometry>
				<mesh filename="meshes/left_shoulder_up_iam_1ca4d925.STL" scale="0.001 0.001 0.001"/>
			</geometry>
			<origin rpy="0 0 0" xyz="0.014919 0.097299 -0.01461"/>
			<material name="left_shoulder:11_color">
				<color rgba="0.176471 0.176471 0.176471 1"/>
			</material>
		</visual>
		<collision>
			<geometry>
				<mesh filename="meshes/left_shoulder_up_iam_1ca4d925.STL" scale="0.001 0.001 0.001"/>
			</geometry>
			<origin rpy="0 0 0" xyz="0.014919 0.097299 -0.01461"/>
		</collision>
		<inertial>
			<mass value="0.084038"/>
			<inertia ixx="0.000026" ixy="-0.000001" ixz="-0.000002" iyy="0.000034" iyz="-0" izz="0.000033"/>
			<origin rpy="0 0 0" xyz="0.005702 0.000175 0.033153"/>
		</inertial>
	</link>
	<joint name="l_shoulder_z" type="fixed">
		<parent link="torso:11"/>
		<child link="left_shoulder:11"/>
		<origin rpy="0 0 0.019617" xyz="0.026783 0.049488 0.748809"/>
		<axis xyz="0 0 1"/>
		<limit effort="30" lower="-2.182" upper="1.745" velocity="1"/>
	</joint>
	<link name="left_collarbone:11">
		<visual>
			<geometry>
				<mesh filename="meshes/left_upper_arm_iam_49d50008.STL" scale="0.001 0.001 0.001"/>
			</geometry>
			<origin rpy="0 0 0" xyz="-0.00032 -0.000277 0.000298"/>
			<material name="left_collarbone:11_color">
				<color rgba="0.176471 0.176471 0.176471 1"/>
			</material>
		</visual>
		<collision>
			<geometry>
				<mesh filename="meshes/left_upper_arm_iam_49d50008.STL" scale="0.001 0.001 0.001"/>
			</geometry>
			<origin rpy="0 0 0" xyz="-0.00032 -0.000277 0.000298"/>
		</collision>
		<inertial>
			<mass value="0.024811"/>
			<inertia ixx="0.000014" ixy="0" ixz="0" iyy="0.000011" iyz="0.000001" izz="0.000019"/>
			<origin rpy="0 0 0" xyz="-0 0.041345 -0.002364"/>
		</inertial>
	</link>
	<joint name="l_shoulder_y" type="fixed">
		<parent link="left_shoulder:11"/>
		<child link="left_collarbone:11"/>
		<origin rpy="0 -0.00445 -0.019538" xyz="0.022445 0.022567 0.037"/>
		<axis xyz="0 1 0"/>
		<limit effort="30" lower="-3.124" upper="3.142" velocity="1"/>
	</joint>
	<link name="left_upper_arm:11">
		<visual>
			<geometry>
				<mesh filename="meshes/left_lower_arm_iam_5be2a521.STL" scale="0.001 0.001 0.001"/>
			</geometry>
			<origin rpy="0 0 0" xyz="-0.044837 -0.009349 -0.161585"/>
			<material name="left_upper_arm:11_color">
				<color rgba="0.176471 0.176471 0.176471 1"/>
			</material>
		</visual>
		<collision>
			<geometry>
				<mesh filename="meshes/left_lower_arm_iam_5be2a521.STL" scale="0.001 0.001 0.001"/>
			</geometry>
			<origin rpy="0 0 0" xyz="-0.044837 -0.009349 -0.161585"/>
		</collision>
		<inertial>
			<mass value="0.192388"/>
			<inertia ixx="0.00085" ixy="0" ixz="-0.00005" iyy="0.000853" iyz="0.000001" izz="0.000052"/>
			<origin rpy="0 0 0" xyz="-0.028636 -0.000703 -0.084224"/>
		</inertial>
	</link>
	<joint name="l_arm_x" type="fixed">
		<parent link="left_collarbone:11"/>
		<child link="left_upper_arm:11"/>
		<origin rpy="0.000683 -0.051282 -0.000035" xyz="0.0245 0.073663 -0.022853"/>
		<axis xyz="1 0 0"/>
		<limit effort="30" lower="-1.8675" upper="3.002" velocity="1"/>
	</joint>
	<link name="left_lower_arm:11">
		<visual>
			<geometry>
				<mesh filename="meshes/right_wrist_MIR_iam_dcfe6de3.STL" scale="0.001 0.001 0.001"/>
			</geometry>
			<origin rpy="0 0 0" xyz="0.000017 -0.010775 -0.12546"/>
			<material name="left_lower_arm:11_color">
				<color rgba="0.176471 0.176471 0.176471 1"/>
			</material>
		</visual>
		<collision>
			<geometry>
				<mesh filename="meshes/right_wrist_MIR_iam_dcfe6de3.STL" scale="0.001 0.001 0.001"/>
			</geometry>
			<origin rpy="0 0 0" xyz="0.000017 -0.010775 -0.12546"/>
		</collision>
		<inertial>
			<mass value="0.076791"/>
			<inertia ixx="0.000104" ixy="-0" ixz="-0" iyy="0.000095" iyz="0.000002" izz="0.000021"/>
			<origin rpy="0 0 0" xyz="0 -0.022485 -0.081055"/>
		</inertial>
	</link>
	<joint name="l_elbow_y" type="fixed">
		<parent link="left_upper_arm:11"/>
		<child link="left_lower_arm:11"/>
		<origin rpy="0 0.055976 0" xyz="-0.034583 0.023066 -0.169859"/>
		<axis xyz="0 -1 0"/>
		<limit effort="30" lower="-1.745" upper="1.745" velocity="1"/>
	</joint>
	<link name="left_wrist:11">
		<visual>
			<geometry>
				<mesh filename="meshes/left_wrist_iam_c75e4b6f.STL" scale="0.001 0.001 0.001"/>
			</geometry>
			<origin rpy="0 0 0" xyz="-0.000319 0.006617 0.070682"/>
			<material name="left_wrist:11_color">
				<color rgba="0.74902 0.74902 0.74902 1"/>
			</material>
		</visual>
		<collision>
			<geometry>
				<mesh filename="meshes/left_wrist_iam_c75e4b6f.STL" scale="0.001 0.001 0.001"/>
			</geometry>
			<origin rpy="0 0 0" xyz="-0.000319 0.006617 0.070682"/>
		</collision>
		<inertial>
			<mass value="0.028361"/>
			<inertia ixx="0.000038" ixy="-0" ixz="-0" iyy="0.000039" iyz="0.000007" izz="0.000015"/>
			<origin rpy="0 0 0" xyz="0.00007 -0.011053 0.067769"/>
		</inertial>
	</link>
	<joint name="l_wrist_z" type="fixed">
		<parent link="left_lower_arm:11"/>
		<child link="left_wrist:11"/>
		<origin rpy="3.141593 0 0.028703" xyz="0 -0.010201 -0.12555"/>
		<axis xyz="0 0 -1"/>
		<limit effort="30" lower="-1.571" upper="1.571" velocity="1"/>
	</joint>
	<link name="left_palm:11">
		<visual>
			<geometry>
				<mesh filename="meshes/left_palm_iam_b92c61b5.STL" scale="0.001 0.001 0.001"/>
			</geometry>
			<origin rpy="0 0 0" xyz="-0.023233 0.001906 0.017234"/>
			<material name="left_palm:11_color">
				<color rgba="0.74902 0.74902 0.74902 1"/>
			</material>
		</visual>
		<collision>
			<geometry>
				<mesh filename="meshes/left_palm_iam_b92c61b5.STL" scale="0.001 0.001 0.001"/>
			</geometry>
			<origin rpy="0 0 0" xyz="-0.023233 0.001906 0.017234"/>
		</collision>
		<inertial>
			<mass value="0.005222"/>
			<inertia ixx="0.000001" ixy="0" ixz="-0" iyy="0.000002" iyz="-0" izz="0.000002"/>
			<origin rpy="0 0 0" xyz="-0.027199 0.000117 0.017191"/>
		</inertial>
	</link>
	<joint name="l_wrist_x" type="fixed">
		<parent link="left_wrist:11"/>
		<child link="left_palm:11"/>
		<origin rpy="0.460941 0 0" xyz="0.023416 0.006052 0.070837"/>
		<axis xyz="1 0 0"/>
		<limit effort="30" lower="-0.872665" upper="0" velocity="1"/>
	</joint>
	<link name="finger_segment:24">
		<visual>
			<geometry>
				<mesh filename="meshes/finger_segment_ipt_50d2a7f4.STL" scale="0.001 0.001 0.001"/>
			</geometry>
			<origin rpy="0 0 0" xyz="-0.015691 -0.015508 -0.007416"/>
			<material name="finger_segment:24_color">
				<color rgba="0.74902 0.74902 0.74902 1"/>
			</material>
		</visual>
		<collision>
			<geometry>
				<mesh filename="meshes/finger_segment_ipt_50d2a7f4.STL" scale="0.001 0.001 0.001"/>
			</geometry>
			<origin rpy="0 0 0" xyz="-0.015691 -0.015508 -0.007416"/>
		</collision>
		<inertial>
			<mass value="0.000009"/>
			<inertia ixx="0" ixy="0" ixz="-0" iyy="0" iyz="0" izz="0"/>
			<origin rpy="0 0 0" xyz="-0.004101 0.000556 -0.005752"/>
		</inertial>
	</link>
	<joint name="l_thumb_x" type="fixed">
		<parent link="left_palm:11"/>
		<child link="finger_segment:24"/>
		<origin rpy="-1.130534 0 -3.141593" xyz="-0.028 0.0199 0.00842"/>
		<axis xyz="1 0 0"/>
		<limit effort="30" lower="-1.309" upper="0" velocity="1"/>
	</joint>
	<link name="finger_segment:14">
		<visual>
			<geometry>
				<mesh filename="meshes/finger_segment_ipt_50d2a7f4.STL" scale="0.001 0.001 0.001"/>
			</geometry>
			<origin rpy="0 0 0" xyz="-0.006181 -0.015507 -0.007417"/>
			<material name="finger_segment:14_color">
				<color rgba="0.74902 0.74902 0.74902 1"/>
			</material>
		</visual>
		<collision>
			<geometry>
				<mesh filename="meshes/finger_segment_ipt_50d2a7f4.STL" scale="0.001 0.001 0.001"/>
			</geometry>
			<origin rpy="0 0 0" xyz="-0.006181 -0.015507 -0.007417"/>
		</collision>
		<inertial>
			<mass value="0.000009"/>
			<inertia ixx="0" ixy="0" ixz="-0" iyy="0" iyz="0" izz="0"/>
			<origin rpy="0 0 0" xyz="0.005409 0.000556 -0.005751"/>
		</inertial>
	</link>
	<joint name="l_thumb_1st_x" type="fixed">
		<parent link="finger_segment:24"/>
		<child link="finger_segment:14"/>
		<origin rpy="-0.095246 0 0" xyz="-0.00951 0 -0.016"/>
		<axis xyz="1 0 0"/>
		<limit effort="30" lower="-1.309" upper="0" velocity="1"/>
	</joint>
	<link name="fingertip:14">
		<visual>
			<geometry>
				<mesh filename="meshes/fingertip_ipt_8417b8a9.STL" scale="0.001 0.001 0.001"/>
			</geometry>
			<origin rpy="0 0 0" xyz="0.005514 0.000374 -0.010171"/>
			<material name="fingertip:14_color">
				<color rgba="0.74902 0.74902 0.74902 1"/>
			</material>
		</visual>
		<collision>
			<geometry>
				<mesh filename="meshes/fingertip_ipt_8417b8a9.STL" scale="0.001 0.001 0.001"/>
			</geometry>
			<origin rpy="0 0 0" xyz="0.005514 0.000374 -0.010171"/>
		</collision>
		<inertial>
			<mass value="0.000008"/>
			<inertia ixx="0" ixy="-0" ixz="-0" iyy="0" iyz="-0" izz="0"/>
			<origin rpy="0 0 0" xyz="0.005013 0.000408 -0.010216"/>
		</inertial>
	</link>
	<joint name="l_thumb_2nd_x" type="fixed">
		<parent link="finger_segment:14"/>
		<child link="fingertip:14"/>
		<origin rpy="-0.109614 0 0" xyz="0 -0 -0.016"/>
		<axis xyz="1 0 0"/>
		<limit effort="30" lower="-1.309" upper="0" velocity="1"/>
	</joint>
	<link name="finger_segment:25">
		<visual>
			<geometry>
				<mesh filename="meshes/finger_segment_ipt_50d2a7f4.STL" scale="0.001 0.001 0.001"/>
			</geometry>
			<origin rpy="0 0 0" xyz="-0.015691 -0.015506 -0.007417"/>
			<material name="finger_segment:25_color">
				<color rgba="0.74902 0.74902 0.74902 1"/>
			</material>
		</visual>
		<collision>
			<geometry>
				<mesh filename="meshes/finger_segment_ipt_50d2a7f4.STL" scale="0.001 0.001 0.001"/>
			</geometry>
			<origin rpy="0 0 0" xyz="-0.015691 -0.015506 -0.007417"/>
		</collision>
		<inertial>
			<mass value="0.000009"/>
			<inertia ixx="0" ixy="0" ixz="-0" iyy="0" iyz="0" izz="0"/>
			<origin rpy="0 0 0" xyz="-0.004101 0.000556 -0.005752"/>
		</inertial>
	</link>
	<joint name="l_indexfingers_x" type="fixed">
		<parent link="left_palm:11"/>
		<child link="finger_segment:25"/>
		<origin rpy="2.492946 0.062904 0" xyz="-0.001439 0.006226 0.040004"/>
		<axis xyz="0.99794 -0.0170003 -0.0618655"/>
		<limit effort="30" lower="-1.309" upper="0" velocity="1"/>
	</joint>
	<link name="finger_segment:15">
		<visual>
			<geometry>
				<mesh filename="meshes/finger_segment_ipt_50d2a7f4.STL" scale="0.001 0.001 0.001"/>
			</geometry>
			<origin rpy="0 0 0" xyz="-0.006181 -0.015507 -0.007416"/>
			<material name="finger_segment:15_color">
				<color rgba="0.74902 0.74902 0.74902 1"/>
			</material>
		</visual>
		<collision>
			<geometry>
				<mesh filename="meshes/finger_segment_ipt_50d2a7f4.STL" scale="0.001 0.001 0.001"/>
			</geometry>
			<origin rpy="0 0 0" xyz="-0.006181 -0.015507 -0.007416"/>
		</collision>
		<inertial>
			<mass value="0.000009"/>
			<inertia ixx="0" ixy="0" ixz="-0" iyy="0" iyz="0" izz="0"/>
			<origin rpy="0 0 0" xyz="0.005409 0.000556 -0.005751"/>
		</inertial>
	</link>
	<joint name="l_indexfinger_1st_x" type="fixed">
		<parent link="finger_segment:25"/>
		<child link="finger_segment:15"/>
		<origin rpy="-0.095245 0 0" xyz="-0.00951 0 -0.016"/>
		<axis xyz="0.99794 -0.0170003 -0.0618655"/>
		<limit effort="30" lower="-1.309" upper="0" velocity="1"/>
	</joint>
	<link name="fingertip:15">
		<visual>
			<geometry>
				<mesh filename="meshes/fingertip_ipt_8417b8a9.STL" scale="0.001 0.001 0.001"/>
			</geometry>
			<origin rpy="0 0 0" xyz="0.005514 0.000374 -0.010171"/>
			<material name="fingertip:15_color">
				<color rgba="0.74902 0.74902 0.74902 1"/>
			</material>
		</visual>
		<collision>
			<geometry>
				<mesh filename="meshes/fingertip_ipt_8417b8a9.STL" scale="0.001 0.001 0.001"/>
			</geometry>
			<origin rpy="0 0 0" xyz="0.005514 0.000374 -0.010171"/>
		</collision>
		<inertial>
			<mass value="0.000008"/>
			<inertia ixx="0" ixy="-0" ixz="-0" iyy="0" iyz="-0" izz="0"/>
			<origin rpy="0 0 0" xyz="0.005013 0.000408 -0.010216"/>
		</inertial>
	</link>
	<joint name="l_indexfinger_2nd_x" type="fixed">
		<parent link="finger_segment:15"/>
		<child link="fingertip:15"/>
		<origin rpy="-0.109614 0 0" xyz="0 -0 -0.016"/>
		<axis xyz="0.99794 -0.0170003 -0.0618655"/>
		<limit effort="30" lower="-1.309" upper="0" velocity="1"/>
	</joint>
	<link name="finger_segment:26">
		<visual>
			<geometry>
				<mesh filename="meshes/finger_segment_ipt_50d2a7f4.STL" scale="0.001 0.001 0.001"/>
			</geometry>
			<origin rpy="0 0 0" xyz="-0.015691 -0.015507 -0.007416"/>
			<material name="finger_segment:26_color">
				<color rgba="0.74902 0.74902 0.74902 1"/>
			</material>
		</visual>
		<collision>
			<geometry>
				<mesh filename="meshes/finger_segment_ipt_50d2a7f4.STL" scale="0.001 0.001 0.001"/>
			</geometry>
			<origin rpy="0 0 0" xyz="-0.015691 -0.015507 -0.007416"/>
		</collision>
		<inertial>
			<mass value="0.000009"/>
			<inertia ixx="0" ixy="0" ixz="-0" iyy="0" iyz="0" izz="0"/>
			<origin rpy="0 0 0" xyz="-0.004101 0.000556 -0.005751"/>
		</inertial>
	</link>
	<joint name="l_ringfingers_x" type="fixed">
		<parent link="left_palm:11"/>
		<child link="finger_segment:26"/>
		<origin rpy="2.499505 -0.062904 0" xyz="-0.036179 0.006226 0.04057"/>
		<axis xyz="0.998051 0.00234199 0.0623629"/>
		<limit effort="30" lower="-1.309" upper="0" velocity="1"/>
	</joint>
	<link name="finger_segment:16">
		<visual>
			<geometry>
				<mesh filename="meshes/finger_segment_ipt_50d2a7f4.STL" scale="0.001 0.001 0.001"/>
			</geometry>
			<origin rpy="0 0 0" xyz="-0.006181 -0.015508 -0.007416"/>
			<material name="finger_segment:16_color">
				<color rgba="0.74902 0.74902 0.74902 1"/>
			</material>
		</visual>
		<collision>
			<geometry>
				<mesh filename="meshes/finger_segment_ipt_50d2a7f4.STL" scale="0.001 0.001 0.001"/>
			</geometry>
			<origin rpy="0 0 0" xyz="-0.006181 -0.015508 -0.007416"/>
		</collision>
		<inertial>
			<mass value="0.000009"/>
			<inertia ixx="0" ixy="0" ixz="-0" iyy="0" iyz="0" izz="0"/>
			<origin rpy="0 0 0" xyz="0.005409 0.000556 -0.005751"/>
		</inertial>
	</link>
	<joint name="l_ringfinger_1st_x" type="fixed">
		<parent link="finger_segment:26"/>
		<child link="finger_segment:16"/>
		<origin rpy="-0.095246 0 0" xyz="-0.00951 0 -0.016"/>
		<axis xyz="0.998051 0.00234199 0.0623629"/>
		<limit effort="30" lower="-1.309" upper="0" velocity="1"/>
	</joint>
	<link name="fingertip:16">
		<visual>
			<geometry>
				<mesh filename="meshes/fingertip_ipt_8417b8a9.STL" scale="0.001 0.001 0.001"/>
			</geometry>
			<origin rpy="0 0 0" xyz="0.005514 0.000374 -0.010171"/>
			<material name="fingertip:16_color">
				<color rgba="0.74902 0.74902 0.74902 1"/>
			</material>
		</visual>
		<collision>
			<geometry>
				<mesh filename="meshes/fingertip_ipt_8417b8a9.STL" scale="0.001 0.001 0.001"/>
			</geometry>
			<origin rpy="0 0 0" xyz="0.005514 0.000374 -0.010171"/>
		</collision>
		<inertial>
			<mass value="0.000008"/>
			<inertia ixx="0" ixy="-0" ixz="-0" iyy="0" iyz="-0" izz="0"/>
			<origin rpy="0 0 0" xyz="0.005013 0.000408 -0.010216"/>
		</inertial>
	</link>
	<joint name="l_ringfinger_2nd_x" type="fixed">
		<parent link="finger_segment:16"/>
		<child link="fingertip:16"/>
		<origin rpy="-0.109613 0 0" xyz="-0 -0 -0.015999"/>
		<axis xyz="0.998051 0.00234199 0.0623629"/>
		<limit effort="30" lower="-1.309" upper="0" velocity="1"/>
	</joint>
</robot>
